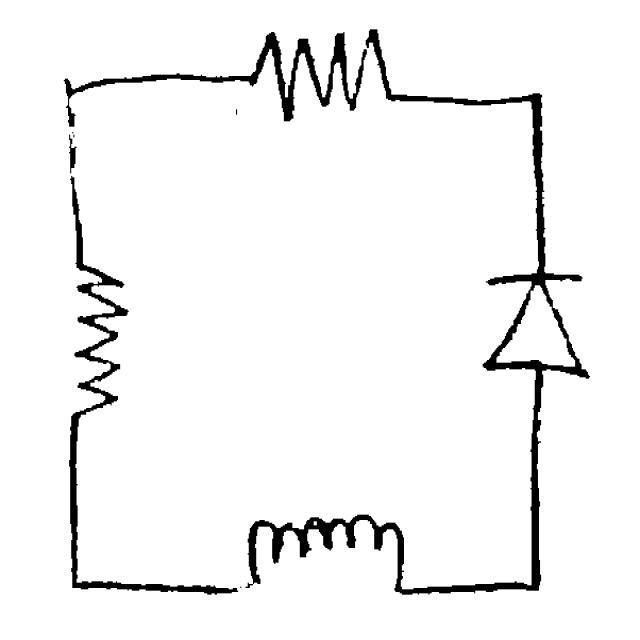diode: (478, 250, 598, 394)
inductor: (236, 496, 421, 614)
resistor: (235, 14, 405, 139), (47, 239, 126, 442)
